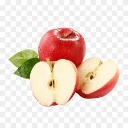apple: (74, 58, 121, 101)
